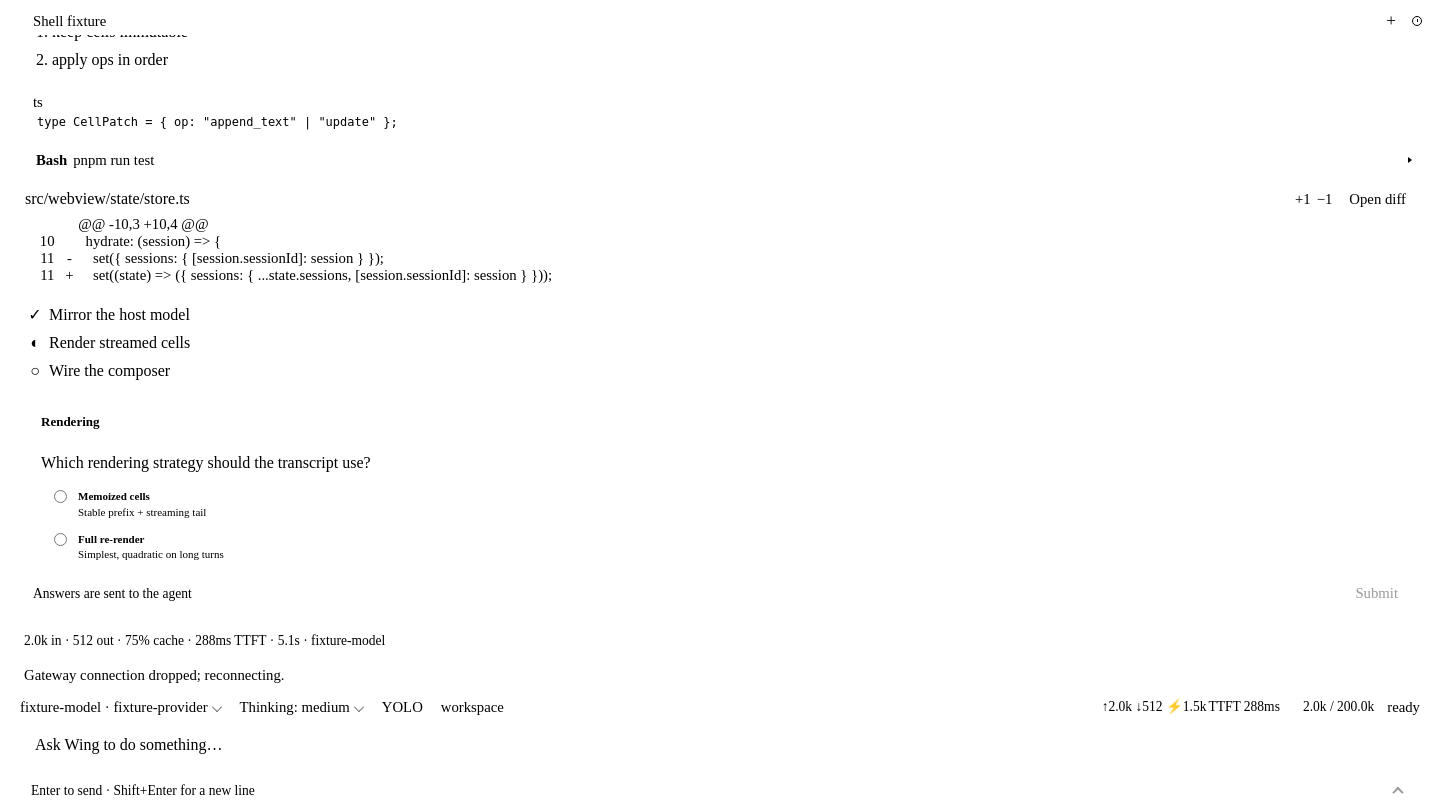
Test case: submission routing › /yolo refuses an unknown argument
(page scrolled)
Type "/yolo maybe" into the dropdown with test id "composer-input" at [720, 751], box [31, 727, 1409, 775]
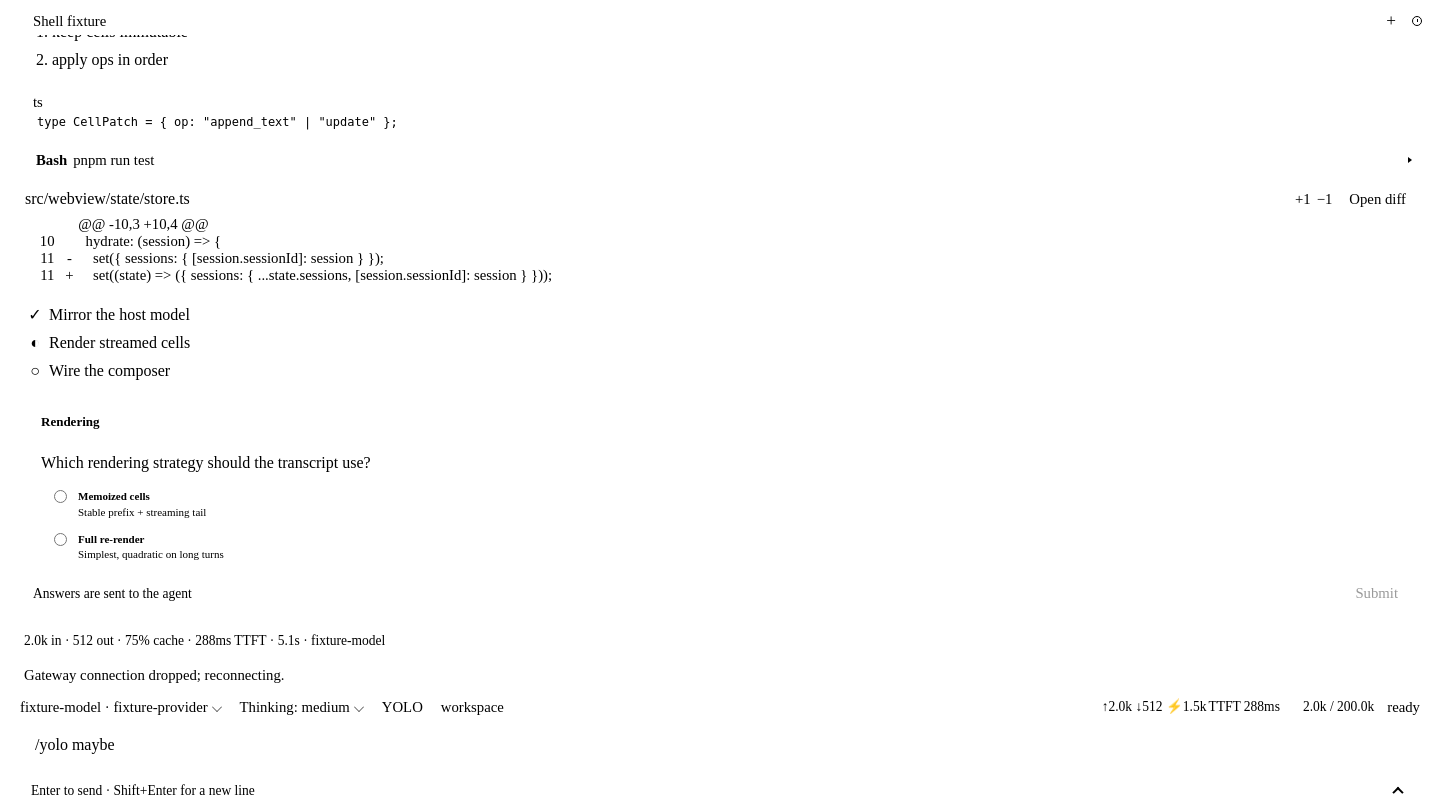
Press Enter in the dropdown with test id "composer-input", box [31, 727, 1409, 775]
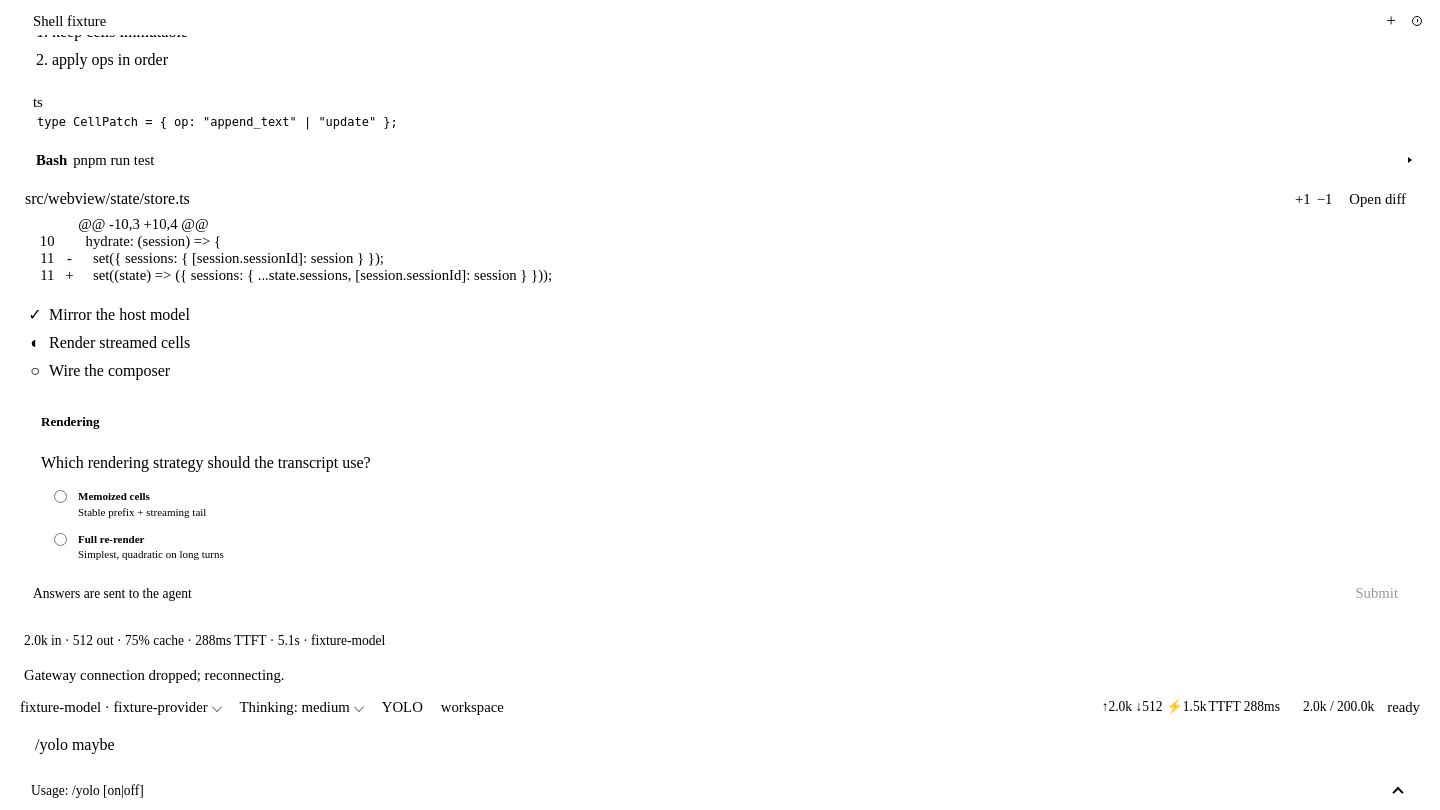
expect the text with test id "composer-hint" shows "Usage: /yolo": met, box [31, 783, 144, 798]
